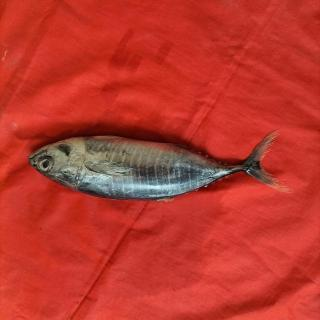Ikan: (24, 121, 306, 232)
